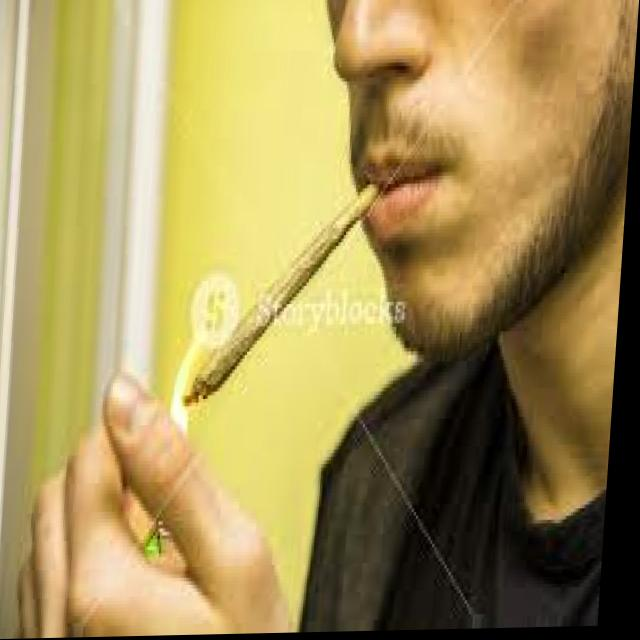fire: (164, 339, 219, 443)
